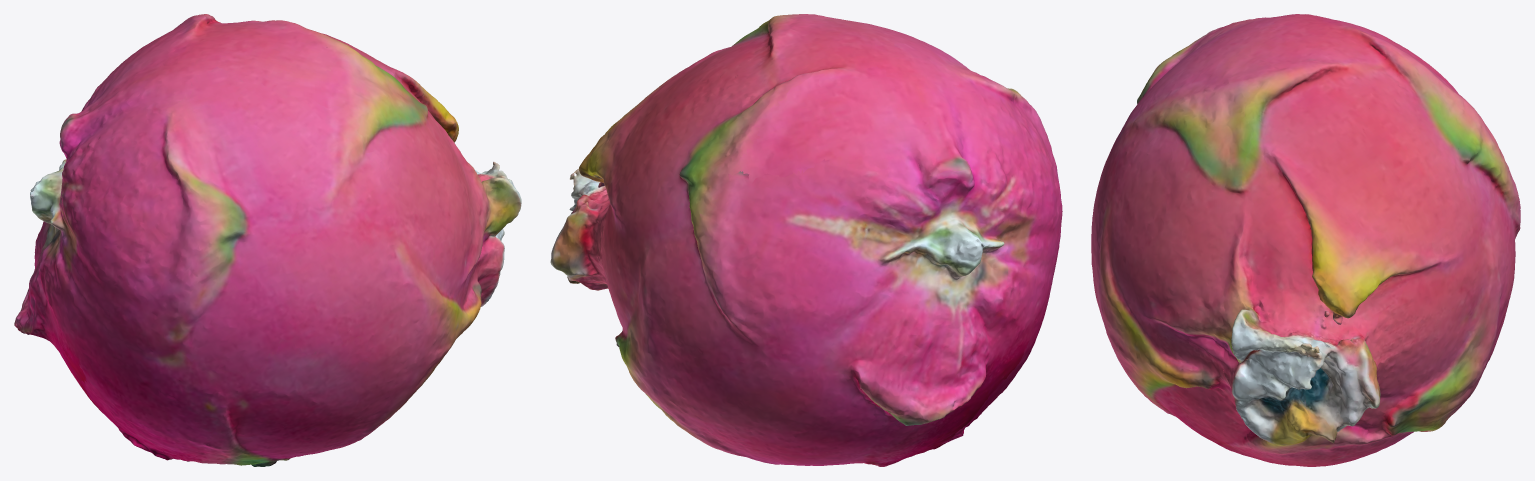
File: dragon-fruit.glb
The picture shows the model from 3 angles, left to right: view 1: azimuth 30°, elevation 25°; view 2: azimuth 150°, elevation 25°; view 3: azimuth 270°, elevation 25°; orthographic projection. The views are drawn at different scales.
Parts seen in each view (by area): view 1: fruitai_marime_reala; view 2: fruitai_marime_reala; view 3: fruitai_marime_reala.
Part boxes in pixels (x1,y1,x2,y2): fruitai_marime_reala: [14, 14, 521, 466]; fruitai_marime_reala: [550, 14, 1062, 466]; fruitai_marime_reala: [1091, 14, 1520, 466].
Size of the model in its own units: 0.0741 by 0.0644 by 0.0626.
Materials: 1 (1 with a texture image).
